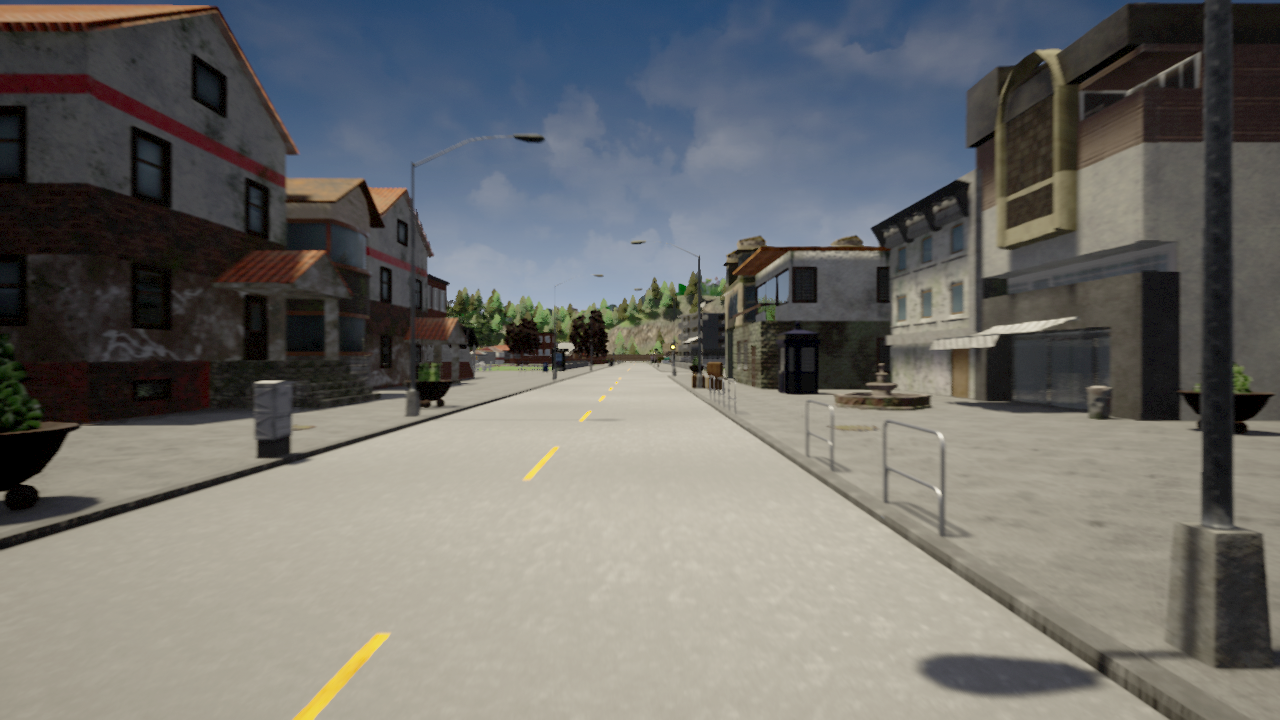yellow: (669, 340, 676, 353)
